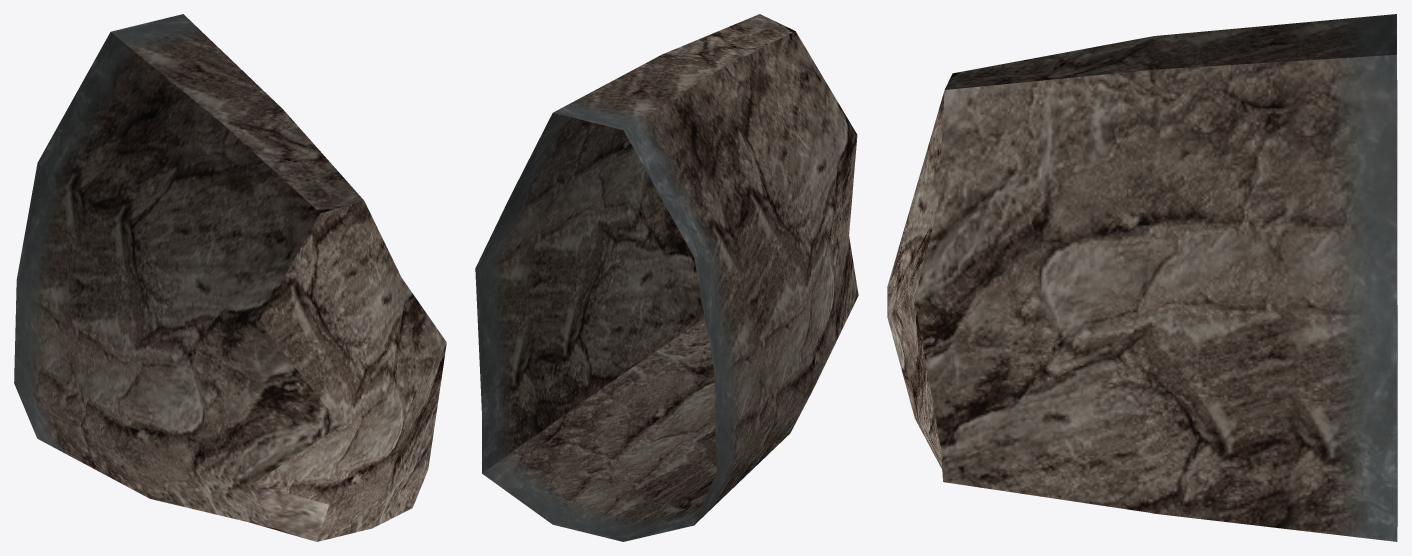
The picture shows the model from 3 angles, left to right: view 1: azimuth 30°, elevation 25°; view 2: azimuth 150°, elevation 25°; view 3: azimuth 270°, elevation 25°; orthographic projection. The views are drawn at different scales.
Parts seen in each view (by area): view 1: Box08; view 2: Box08; view 3: Box08.
Part boxes in pixels (x1,y1,x2,y2): Box08: (14,14,446,541); Box08: (475,14,858,541); Box08: (887,14,1397,541).
Size of the model in its own units: 68.86 by 112 by 107.
